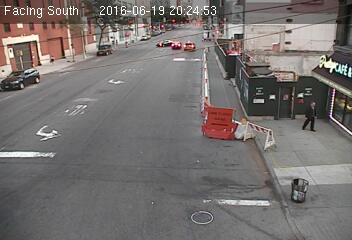neg: (61, 41, 81, 68), (154, 35, 173, 61)
pos: (295, 93, 330, 139)
